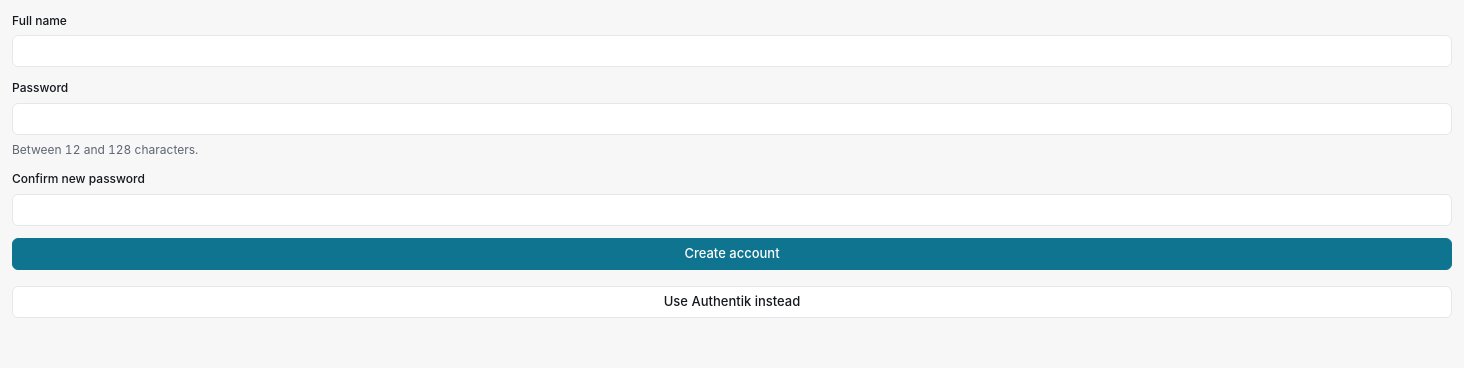
Test: InviteForm › bounds the name as the server does and says so when it refuses one
In the field labelled "Full name": (732, 51) [12,35,1452,67], type "Giulia Rossi"
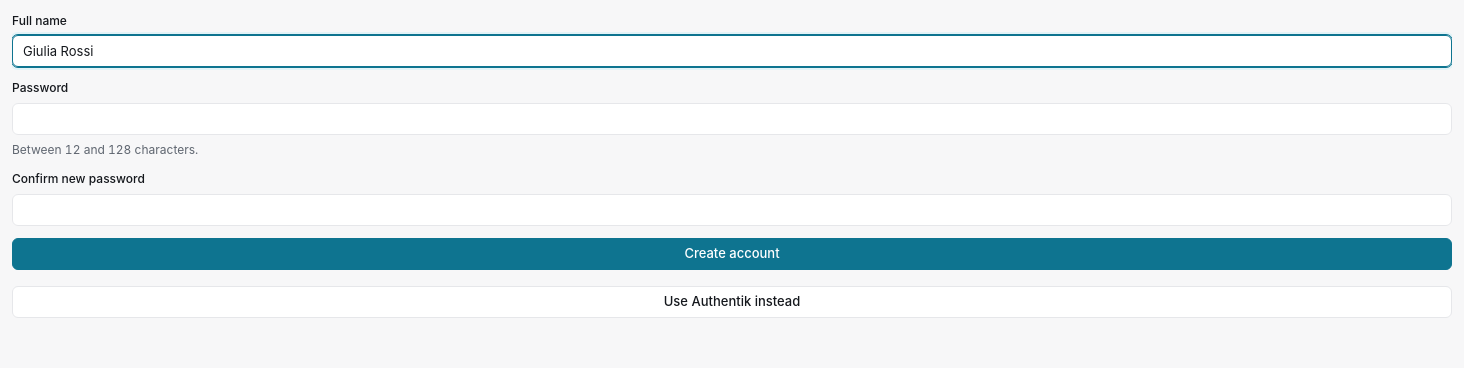
In the password field labelled "Password": (732, 119) [12,103,1452,135], type "long-enough-password"
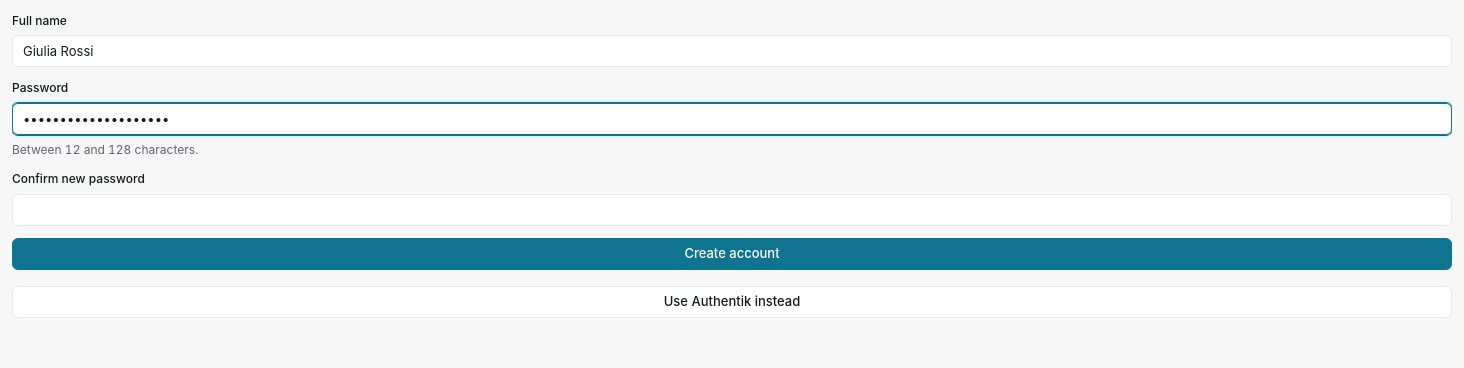
In the password field labelled "Confirm new password": (732, 210) [12,194,1452,226], type "long-enough-password"
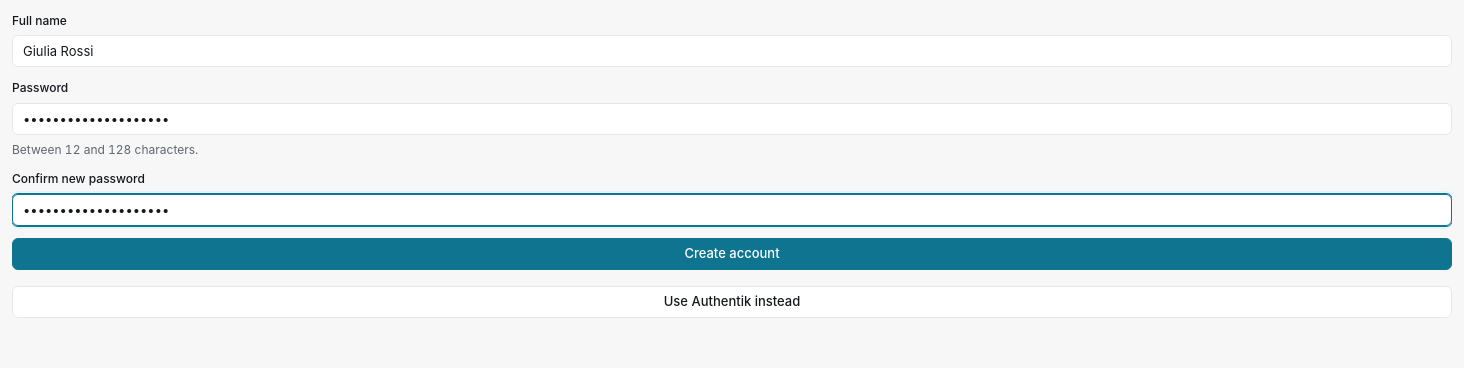
Click the button "Create account": (732, 254) [12,238,1452,270]
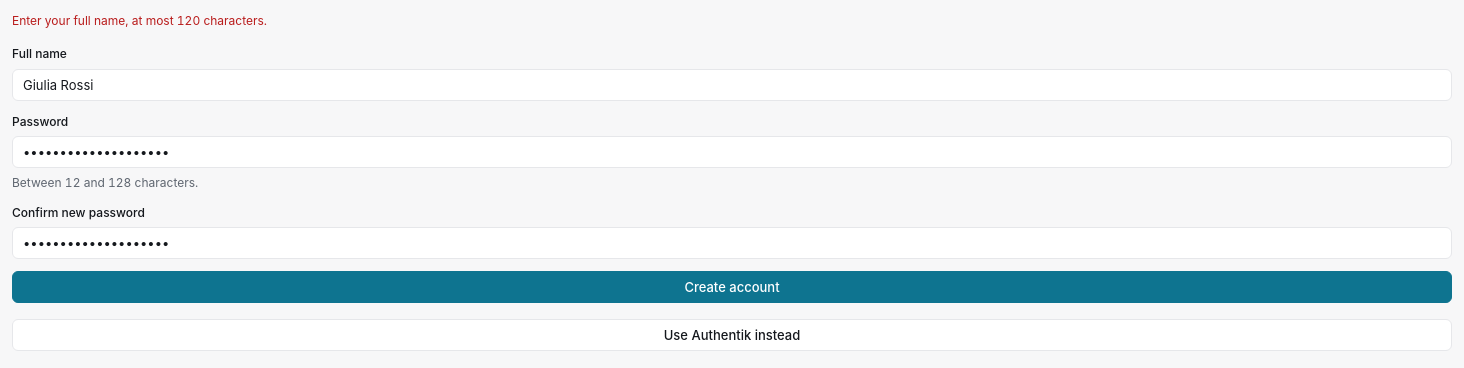
Expected: the message reads "Enter your full name, at most 120 characters.", [12,13,267,28]
